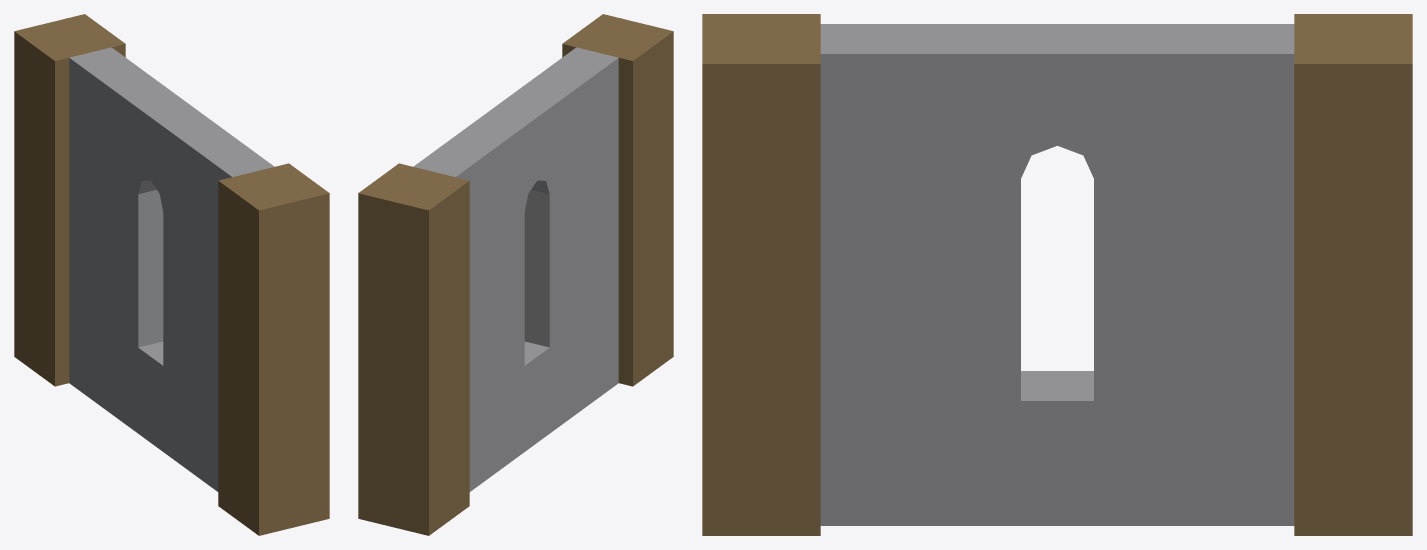
The model's file is Wood_Window_Narrow_01.obj.
3 views of the same model, side by side, from view 1: azimuth 30°, elevation 25°; view 2: azimuth 150°, elevation 25°; view 3: azimuth 270°, elevation 25° (orthographic). The views are drawn at different scales.
Visible parts, largest first — view 1: Mesh1_Wood_Window_Narrow_Model; view 2: Mesh1_Wood_Window_Narrow_Model; view 3: Mesh1_Wood_Window_Narrow_Model.
Boxes of the visible parts, x1,y1,x2,y2 form: Mesh1_Wood_Window_Narrow_Model: (14,14,329,535); Mesh1_Wood_Window_Narrow_Model: (358,14,673,535); Mesh1_Wood_Window_Narrow_Model: (702,14,1412,535).
Size of the model in its own units: 0.5 by 2.2 by 3.
